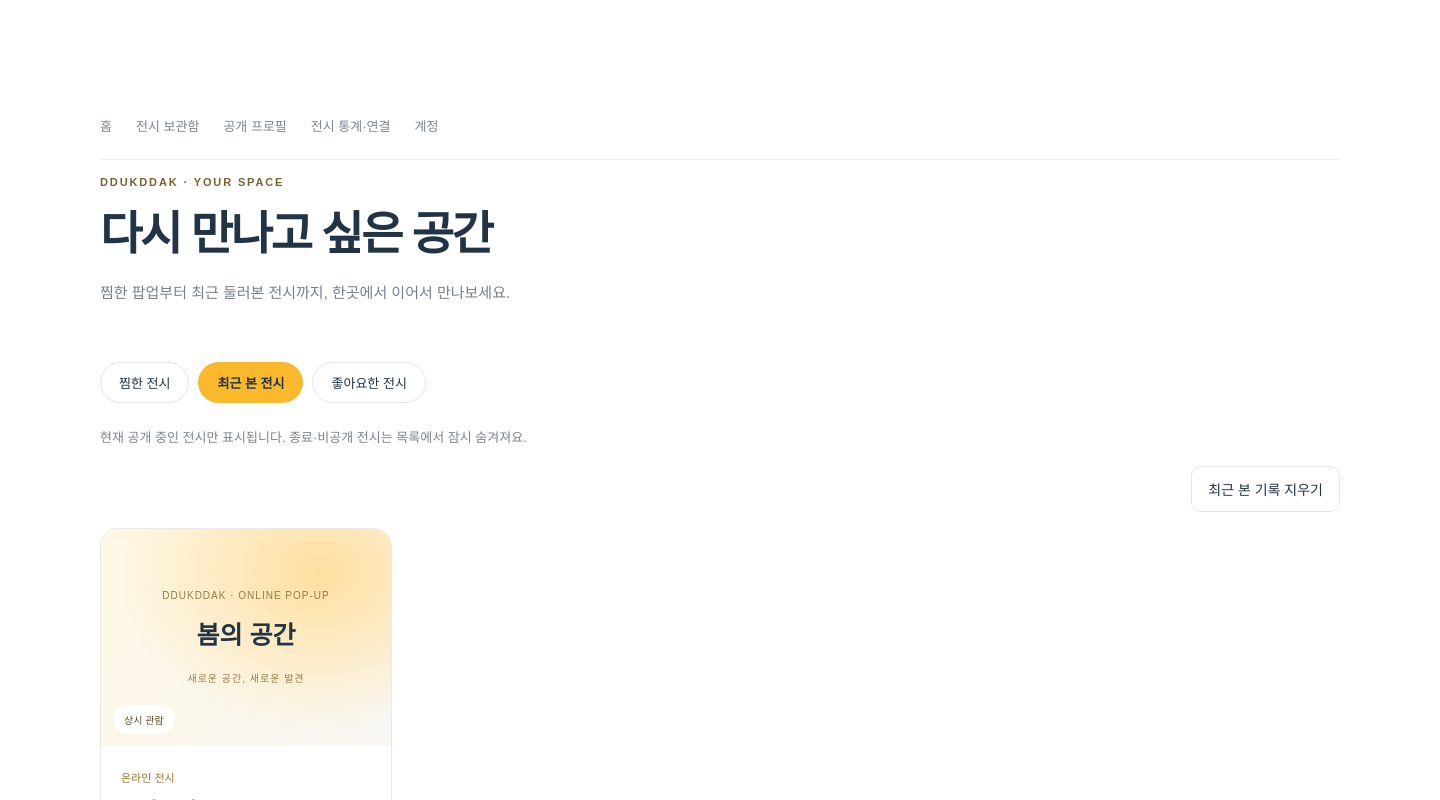
Test: recent history requires an explicit clear action and refreshes after completion
Click the button "최근 본 기록 지우기" at (1266, 488), box [1191,466,1340,512]
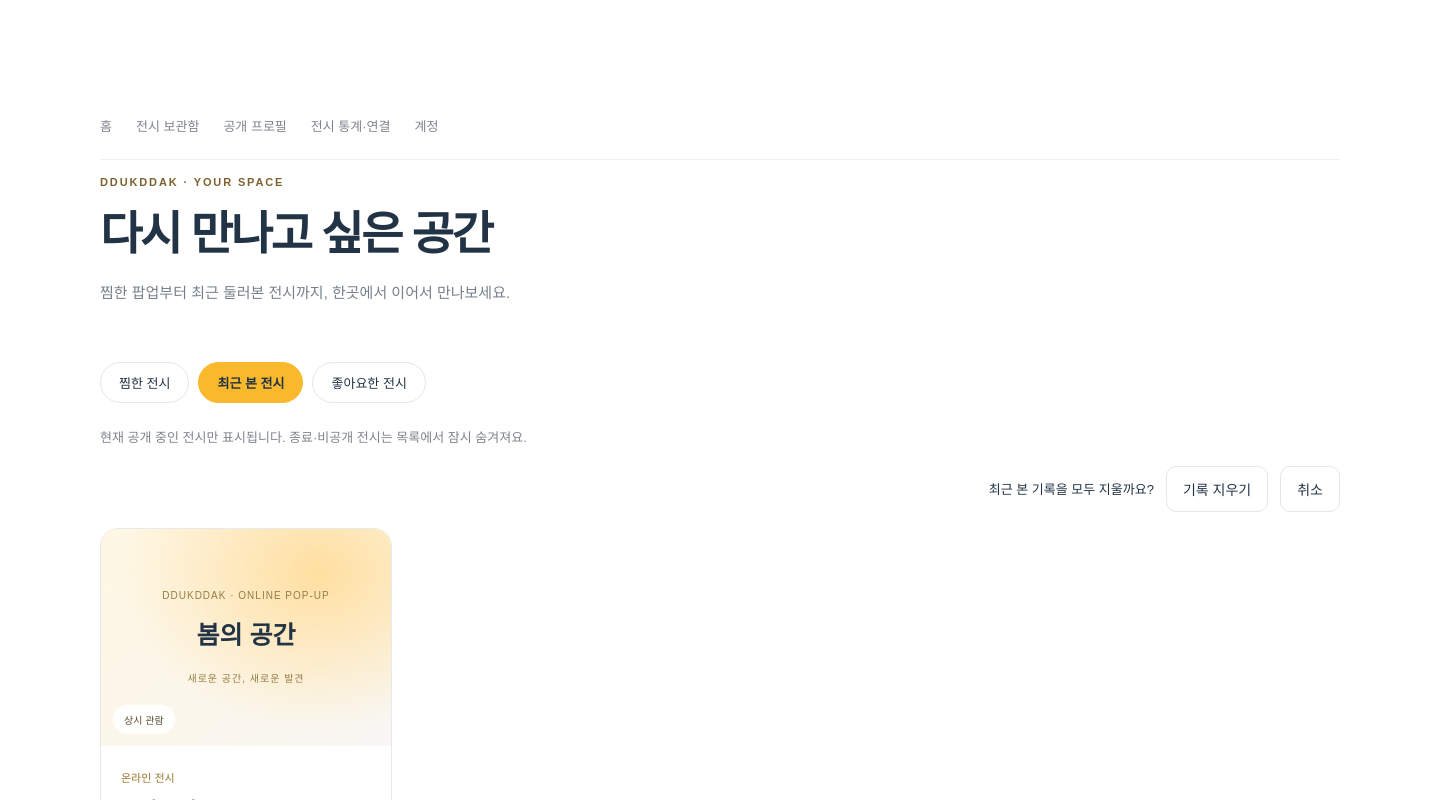
Click the button "기록 지우기" at (1217, 488), box [1166,466,1268,512]
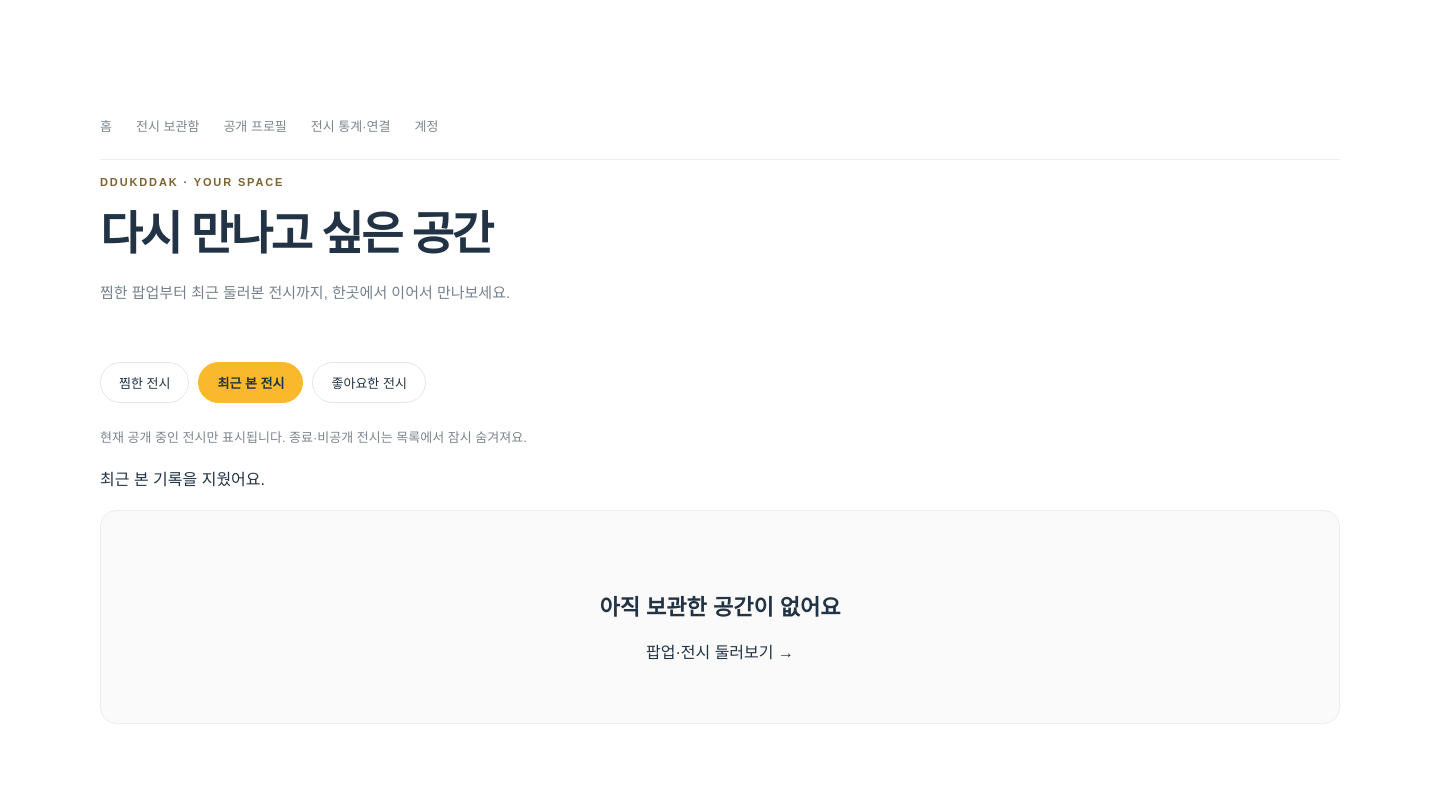
Expected: the heading "아직 보관한 공간이 없어요" is shown, [600,595,840,620]
